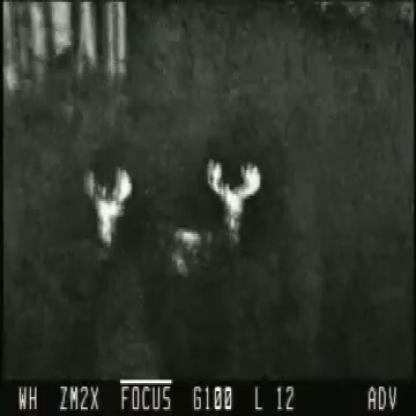rehkitze: (201, 153, 263, 235), (81, 165, 131, 244)
